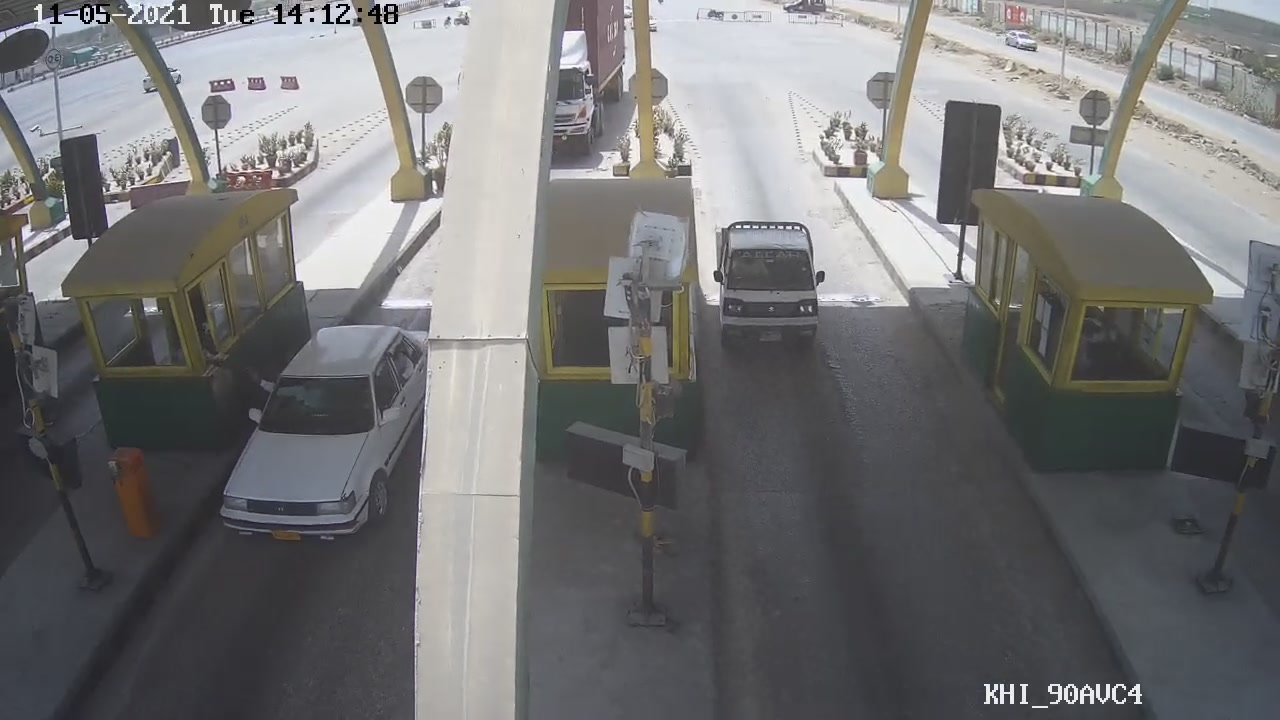F1: (699, 205, 842, 367)
